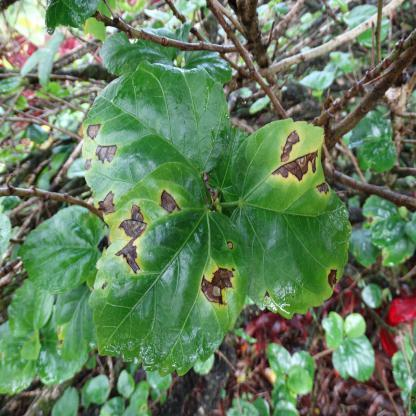Tomato Septoria leaf spot: (88, 170, 249, 374), (232, 116, 356, 312)
